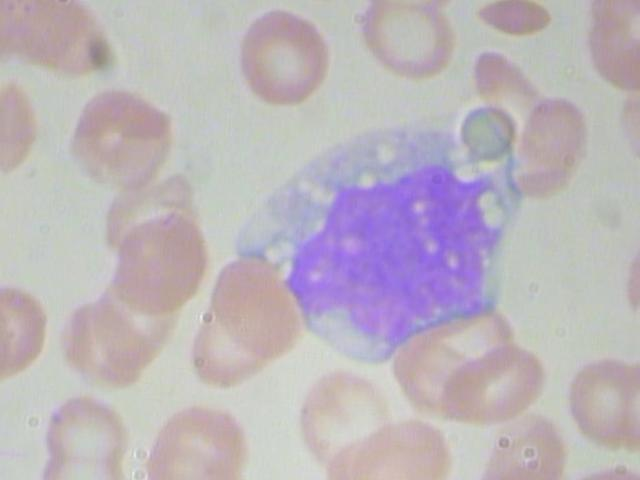RBC: (224, 2, 343, 121), (63, 78, 182, 197), (432, 334, 557, 442), (107, 202, 217, 318), (506, 85, 595, 200), (352, 3, 456, 82), (42, 390, 133, 464), (358, 0, 463, 9)
WBC: (189, 245, 316, 365)
